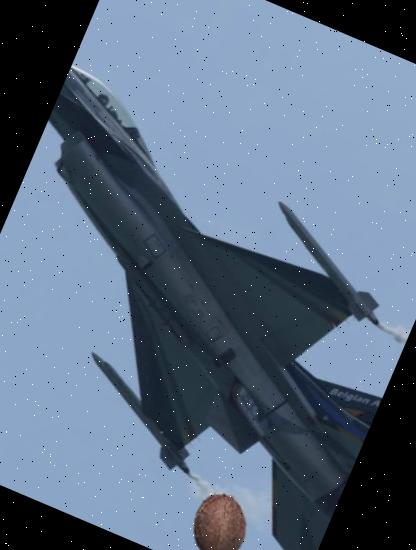Cocos: (174, 483, 263, 550)
